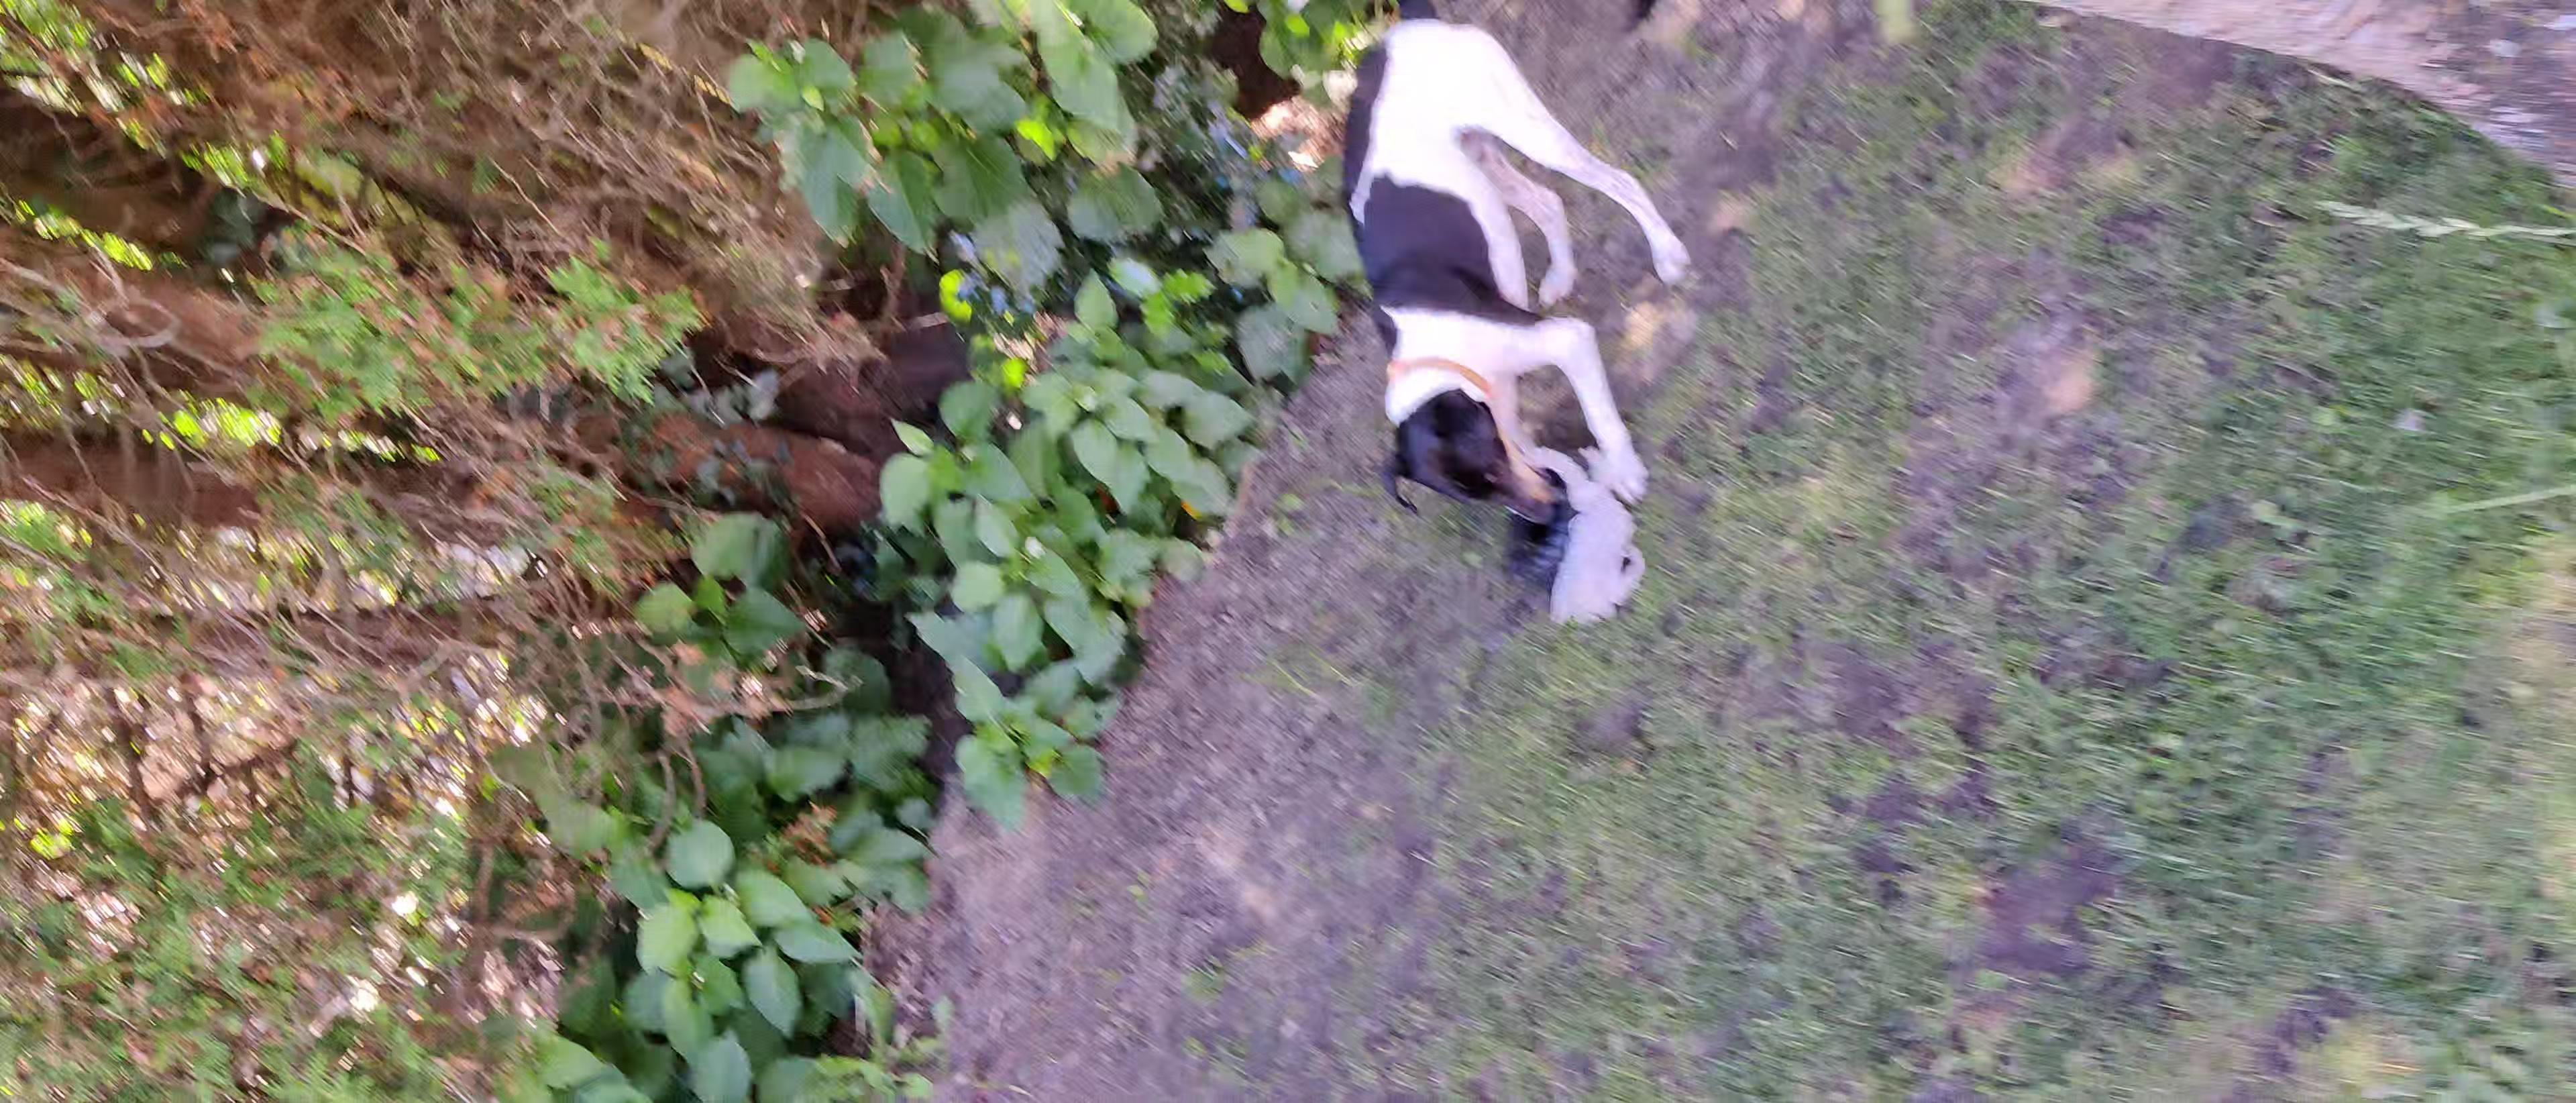Dog: (1318, 0, 1697, 544)
